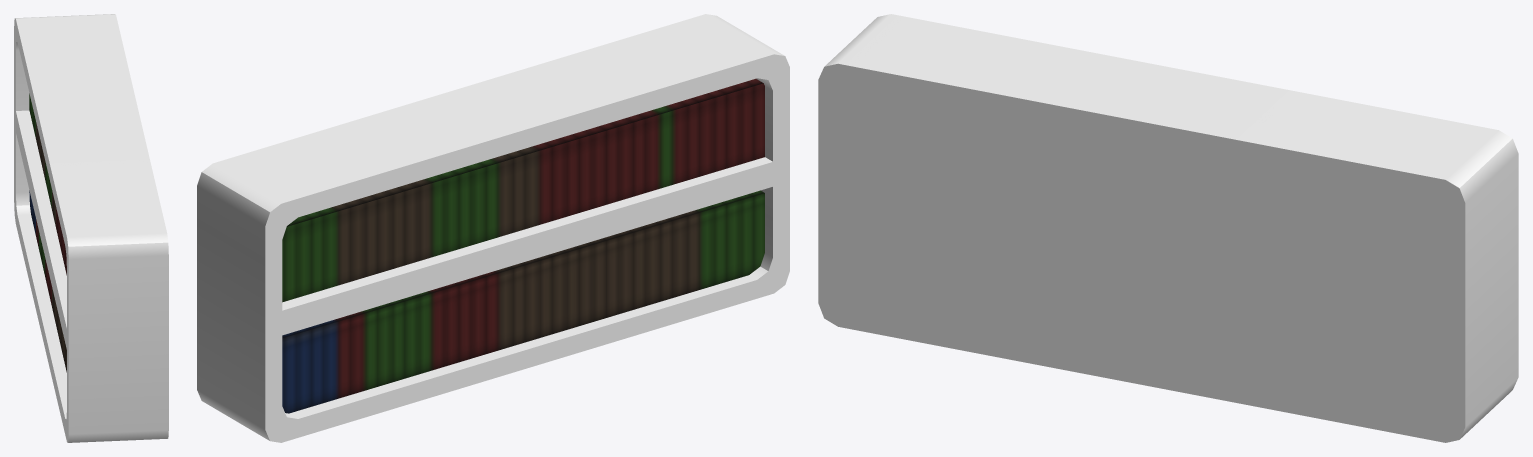
Rendered from ShortBookcase_01.fbx.
3 views of the same model, side by side, from view 1: azimuth 30°, elevation 25°; view 2: azimuth 150°, elevation 25°; view 3: azimuth 270°, elevation 25° (orthographic). The views are drawn at different scales.
Parts seen in each view (by area): view 1: ShortBookcase_01; view 2: ShortBookcase_01; view 3: ShortBookcase_01.
Part boxes in pixels (x1,y1,x2,y2): ShortBookcase_01: (14, 14, 168, 442); ShortBookcase_01: (197, 14, 789, 442); ShortBookcase_01: (818, 14, 1518, 442).
Size of the model in its own units: 571 by 404 by 975.
